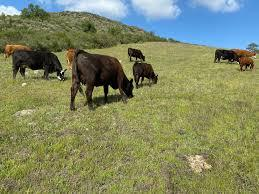cow: (70, 51, 134, 111), (10, 51, 67, 81), (133, 61, 158, 89), (5, 45, 33, 61), (215, 49, 240, 65), (127, 47, 146, 62), (66, 47, 77, 71), (238, 58, 254, 71), (234, 49, 257, 58)
